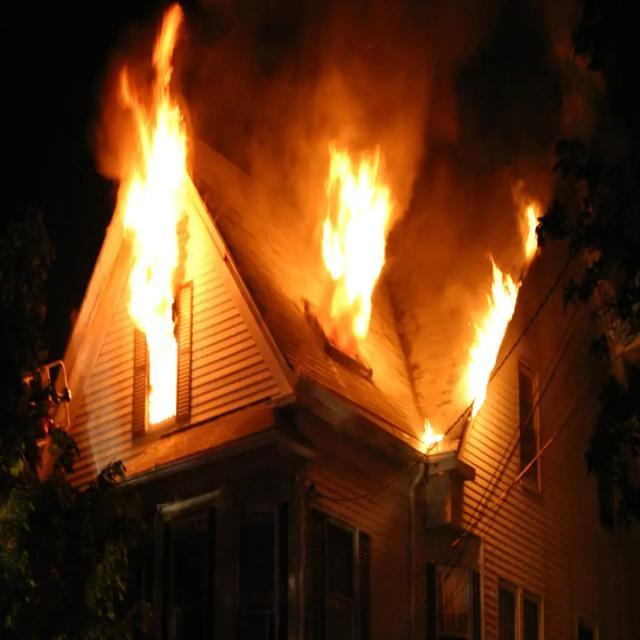Fire: (103, 0, 196, 440), (310, 114, 409, 336), (458, 245, 521, 420), (514, 184, 544, 268), (416, 406, 442, 462)
Smoke: (200, 0, 487, 196)
